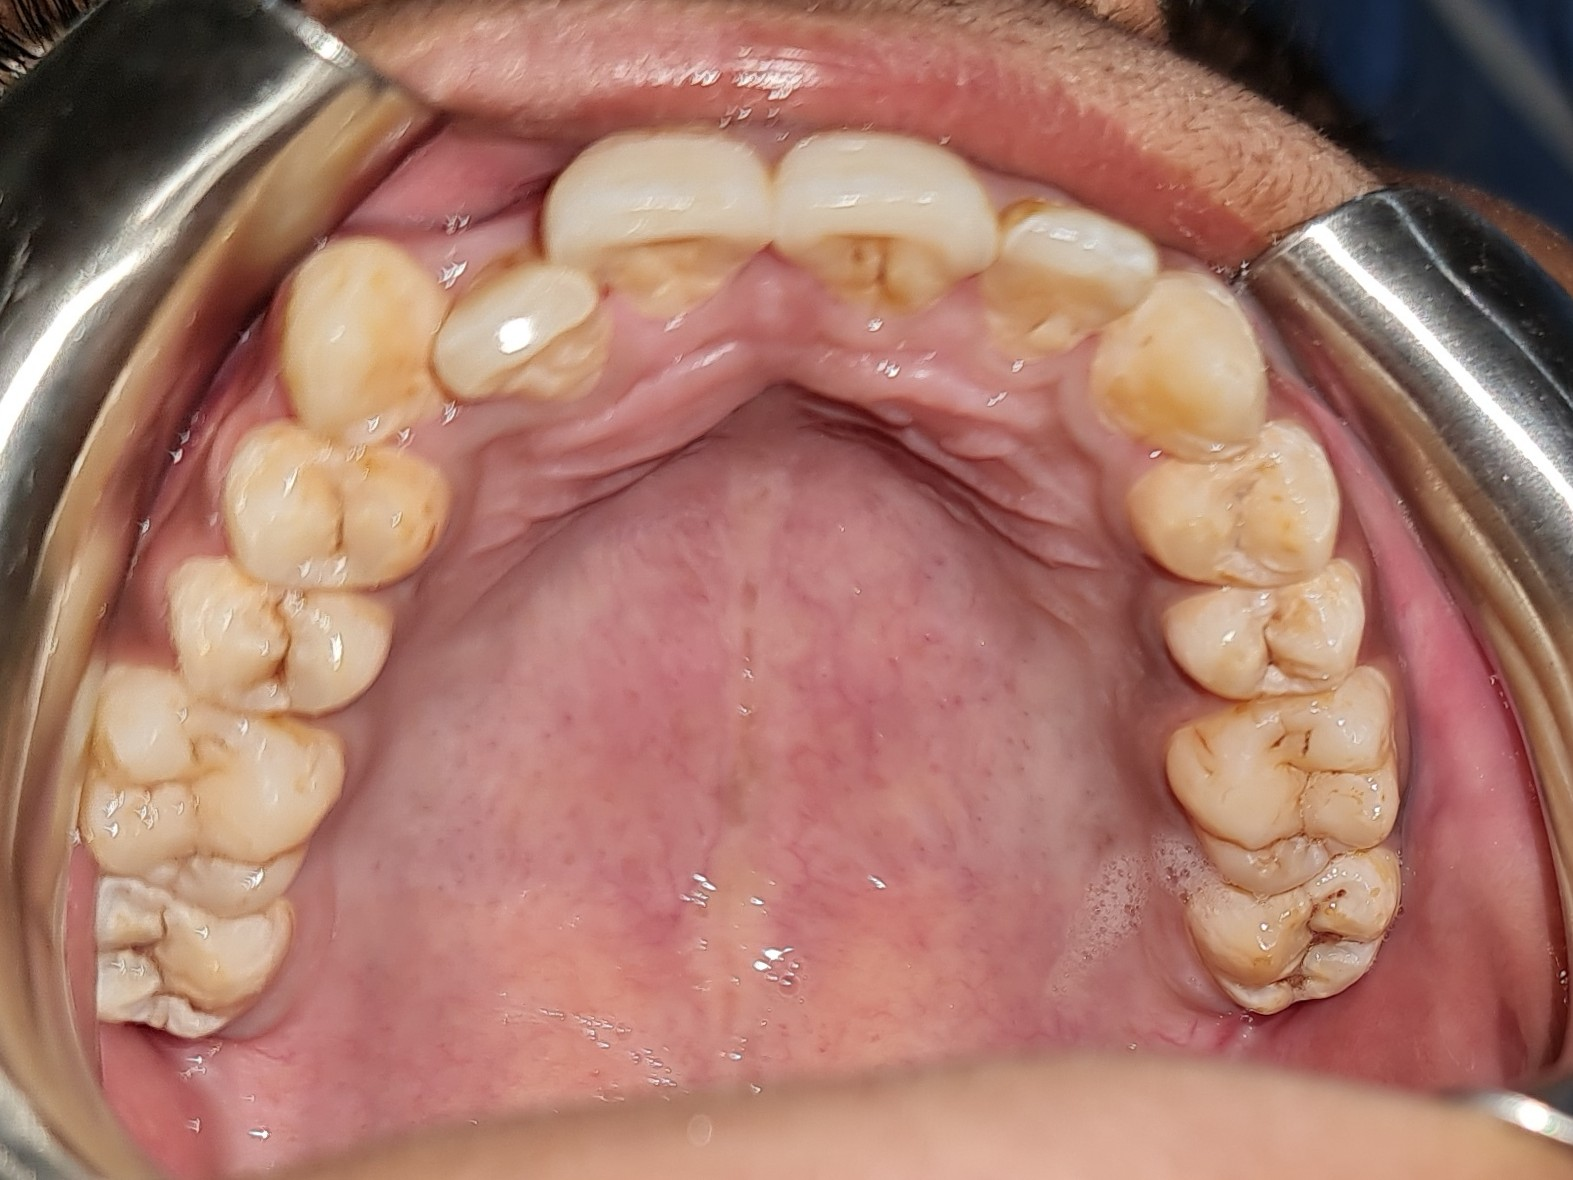D: (1179, 850, 1409, 1023), (147, 561, 394, 715), (1159, 557, 1367, 704)
